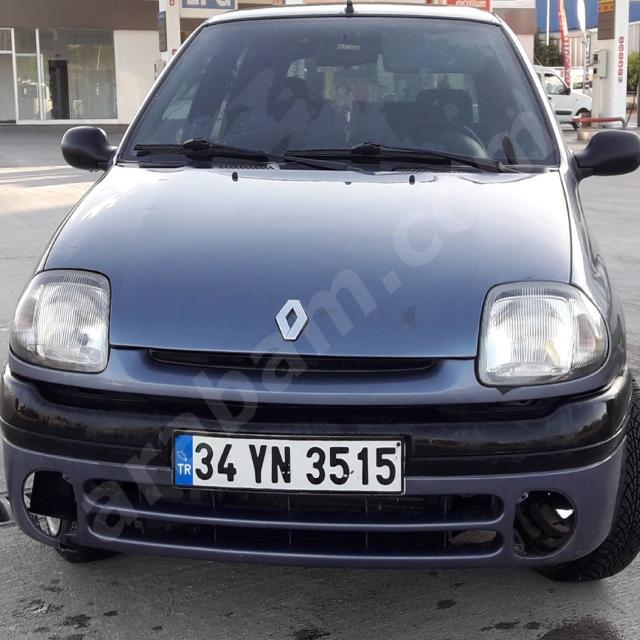license_plate: (171, 430, 405, 494)
